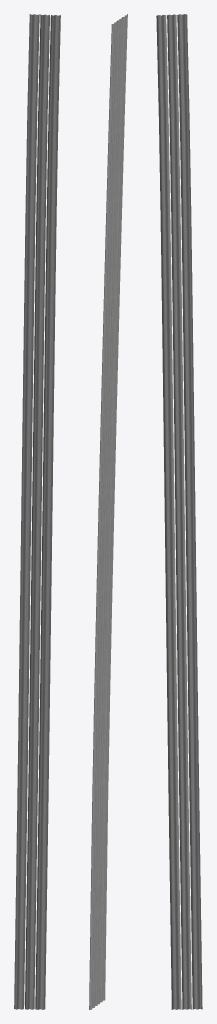
File: _1WALL_small_metal_01_01_002_SUB1.obj
3 views of the same model, side by side, from view 1: azimuth 90°, elevation 25°; view 2: azimuth 150°, elevation 25°; view 3: azimuth 270°, elevation 25° (orthographic).
Parts seen in each view (by area): view 1: _1WALL_small_metal_01_01_002_SUB1_Scene.357; view 2: _1WALL_small_metal_01_01_002_SUB1_Scene.357; view 3: _1WALL_small_metal_01_01_002_SUB1_Scene.357.
Part boxes in pixels (x1=…): _1WALL_small_metal_01_01_002_SUB1_Scene.357: x1=14, y1=14, x2=60, y2=1009; _1WALL_small_metal_01_01_002_SUB1_Scene.357: x1=89, y1=14, x2=127, y2=1009; _1WALL_small_metal_01_01_002_SUB1_Scene.357: x1=156, y1=14, x2=202, y2=1009.
Bounding box in the file's own units: 74.46 × 4064 × 172.
